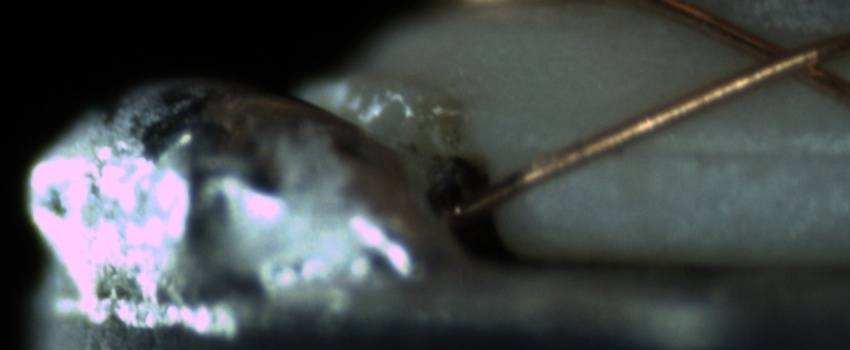CL: (725, 29, 849, 90)
DL: (609, 117, 846, 186)
